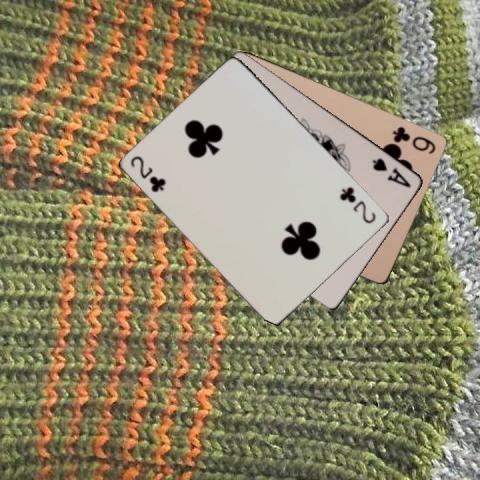2c: (337, 184, 378, 226), (127, 153, 168, 194)
6c: (390, 123, 438, 156)
As: (369, 155, 413, 189)
